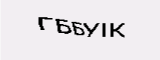А: (86, 18, 104, 41), (69, 19, 87, 40)
О: (104, 20, 122, 39)
Х: (55, 19, 70, 39)
Ю: (37, 17, 56, 43)
